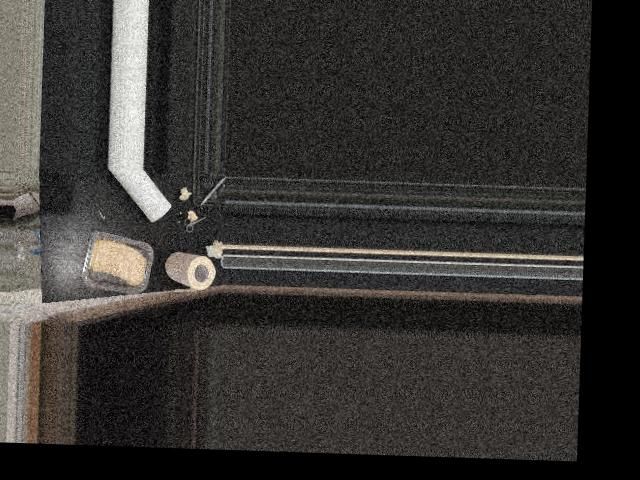cheese: (80, 232, 154, 289)
